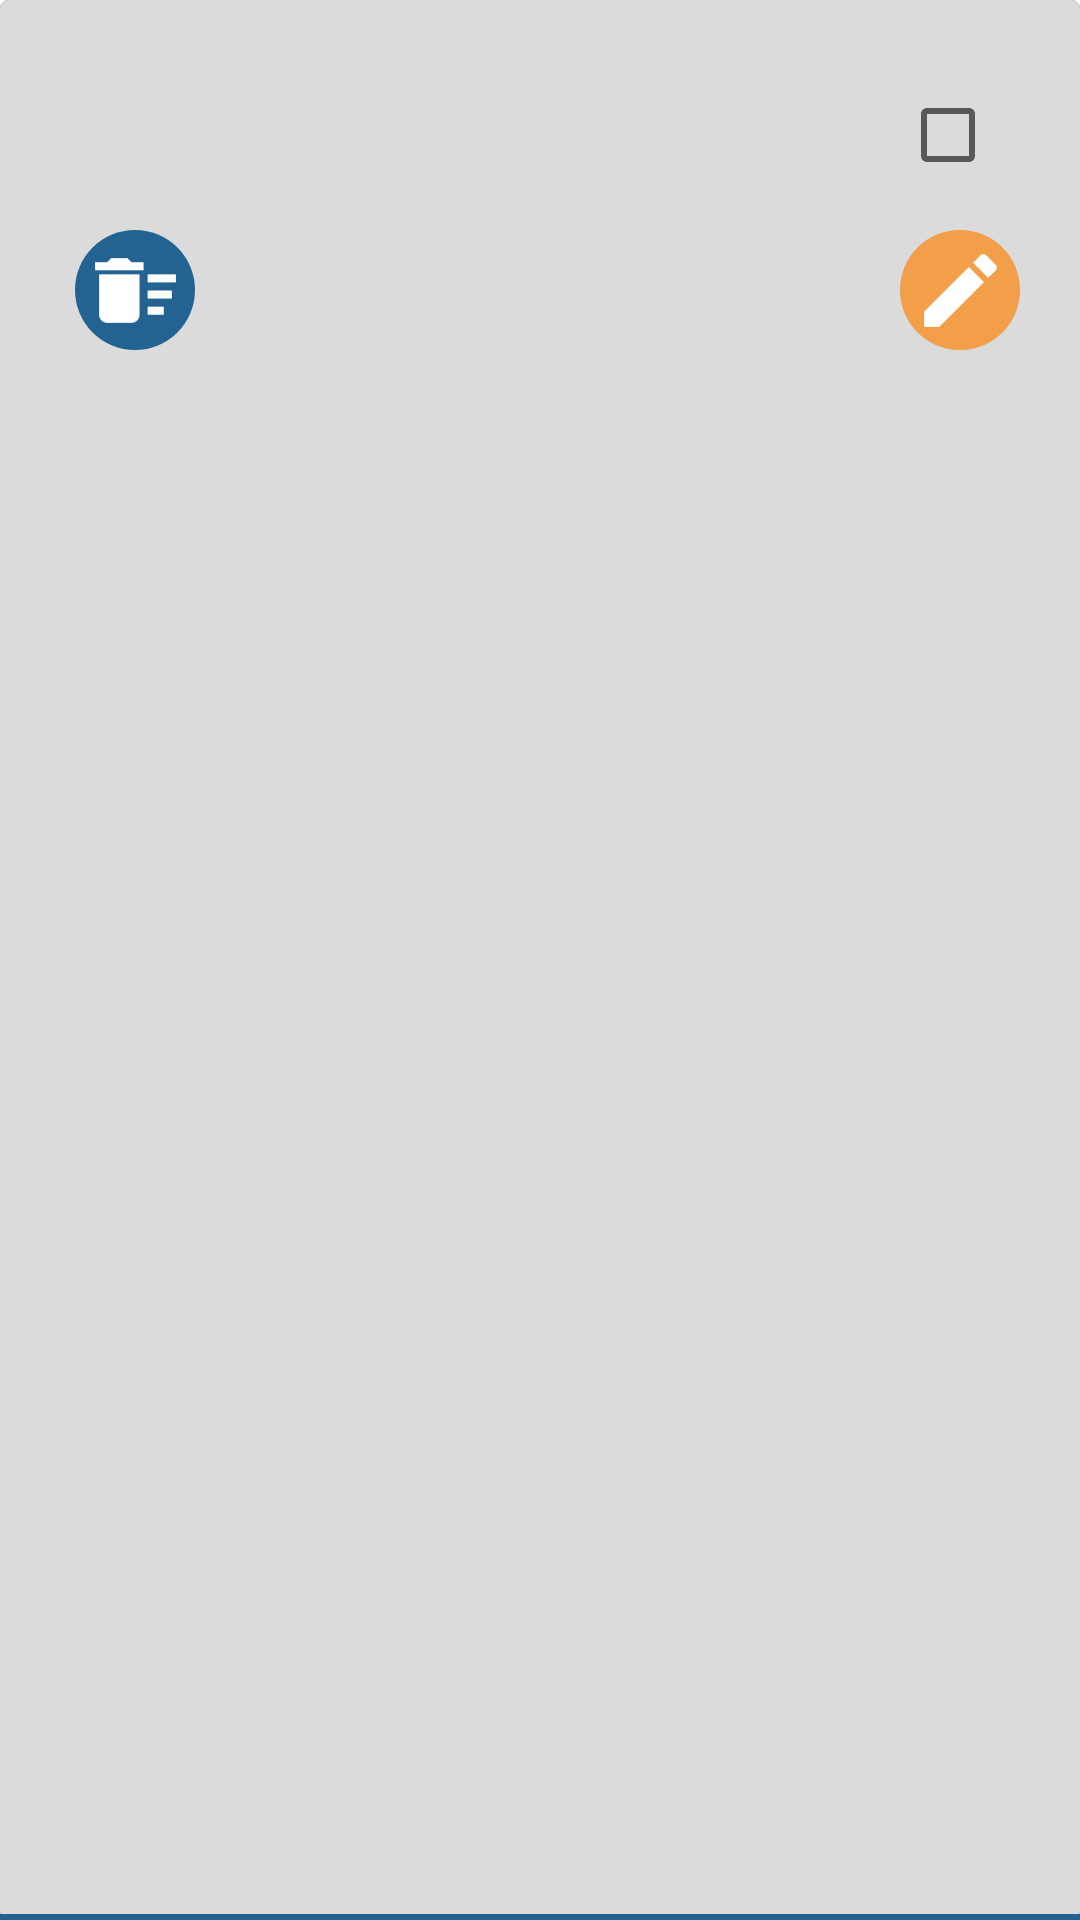

Icons on this 1080px×1920px Android screen, each with the point to tap as [x,y]:
delete sweep: [135,290]
edit: [960,290]
